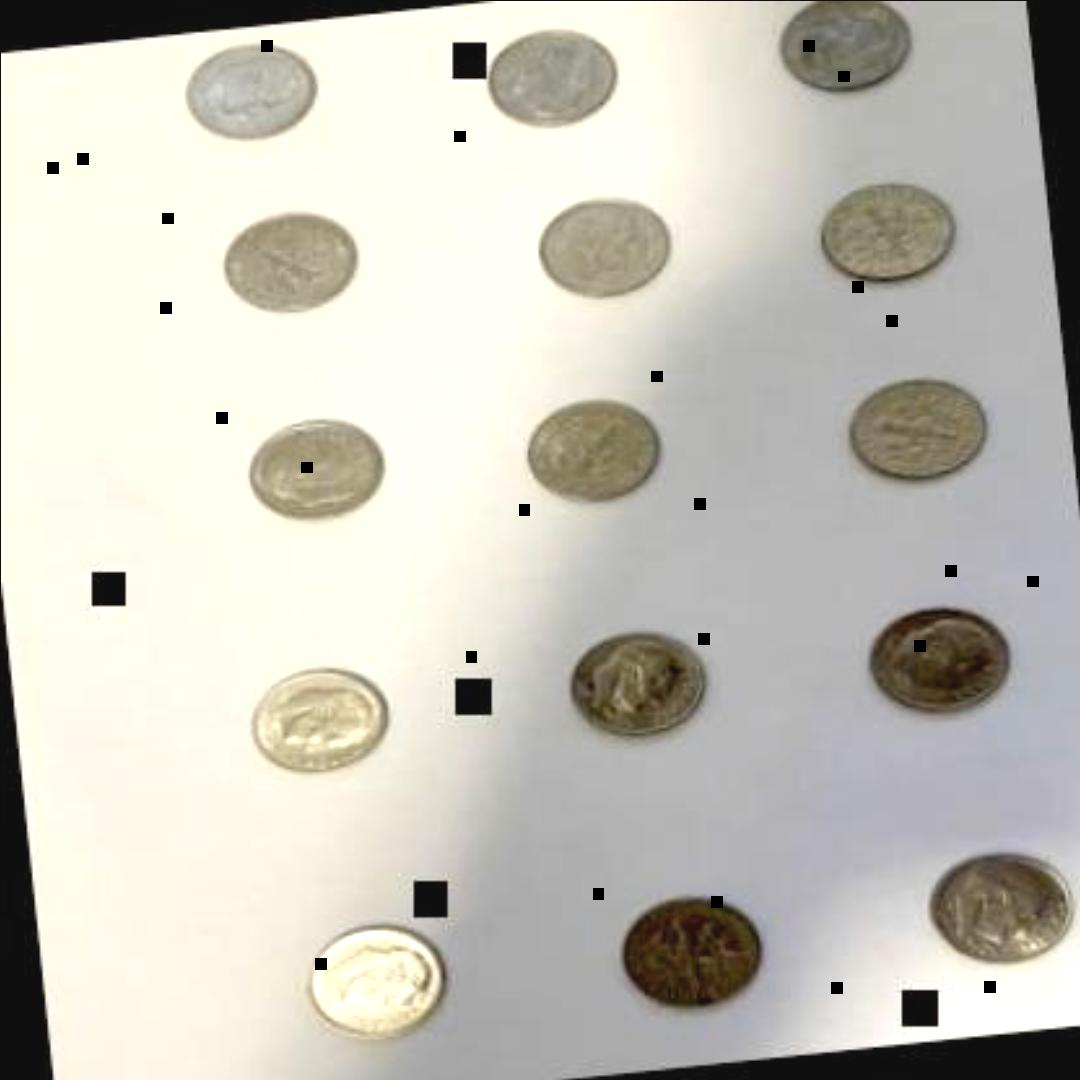Dime: (603, 886, 774, 1020), (298, 912, 458, 1048), (561, 620, 727, 747), (846, 366, 1002, 496), (243, 651, 396, 783), (924, 842, 1080, 970), (814, 170, 974, 294), (862, 594, 1017, 722), (238, 407, 396, 531), (518, 388, 674, 512), (529, 190, 682, 314), (476, 15, 628, 139), (218, 206, 372, 324), (179, 26, 326, 148), (771, 1, 929, 103)
